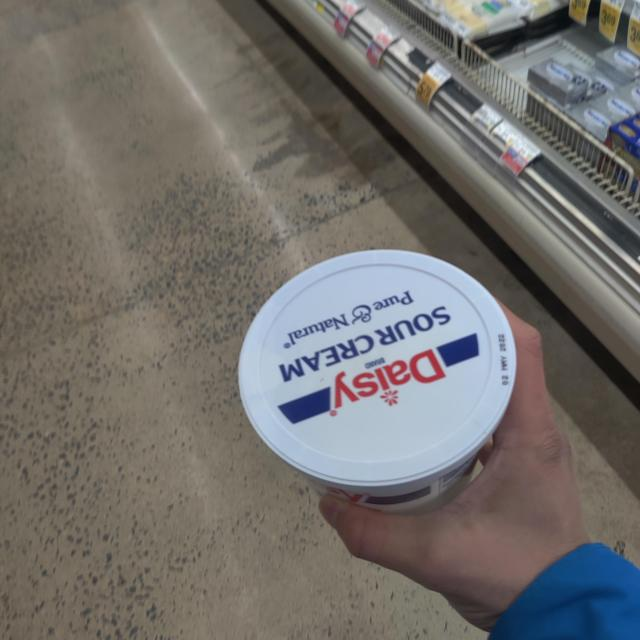Yogurt: (235, 252, 523, 514)
